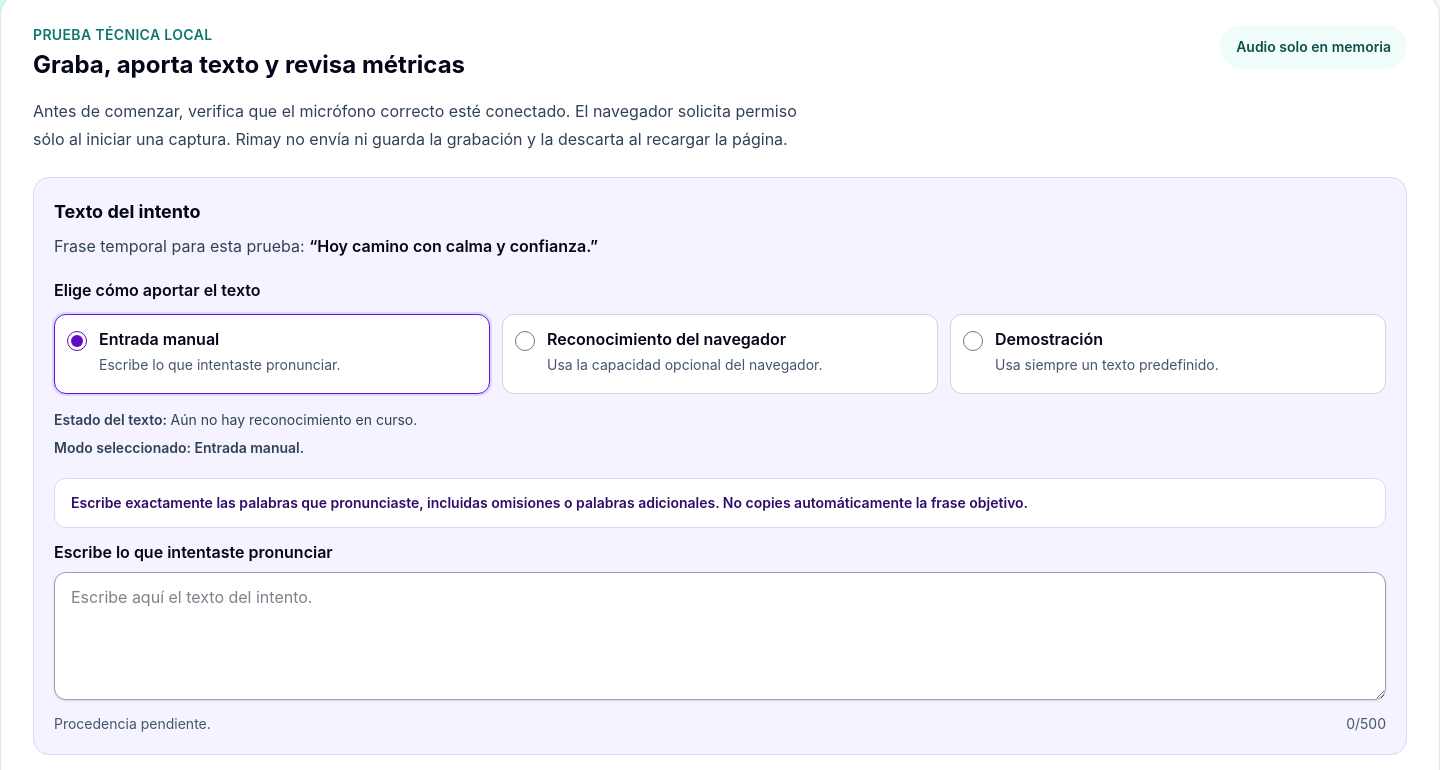
Scenario: AudioRecorderCard speech text flow › muestra WPM manual válido con el aviso de estimación declarada
Type "Hoy camino con calma y confianza." into the text box labelled "Escribe lo que intentaste pronunciar" at (720, 636), box [54,572,1386,700]
(page scrolled)
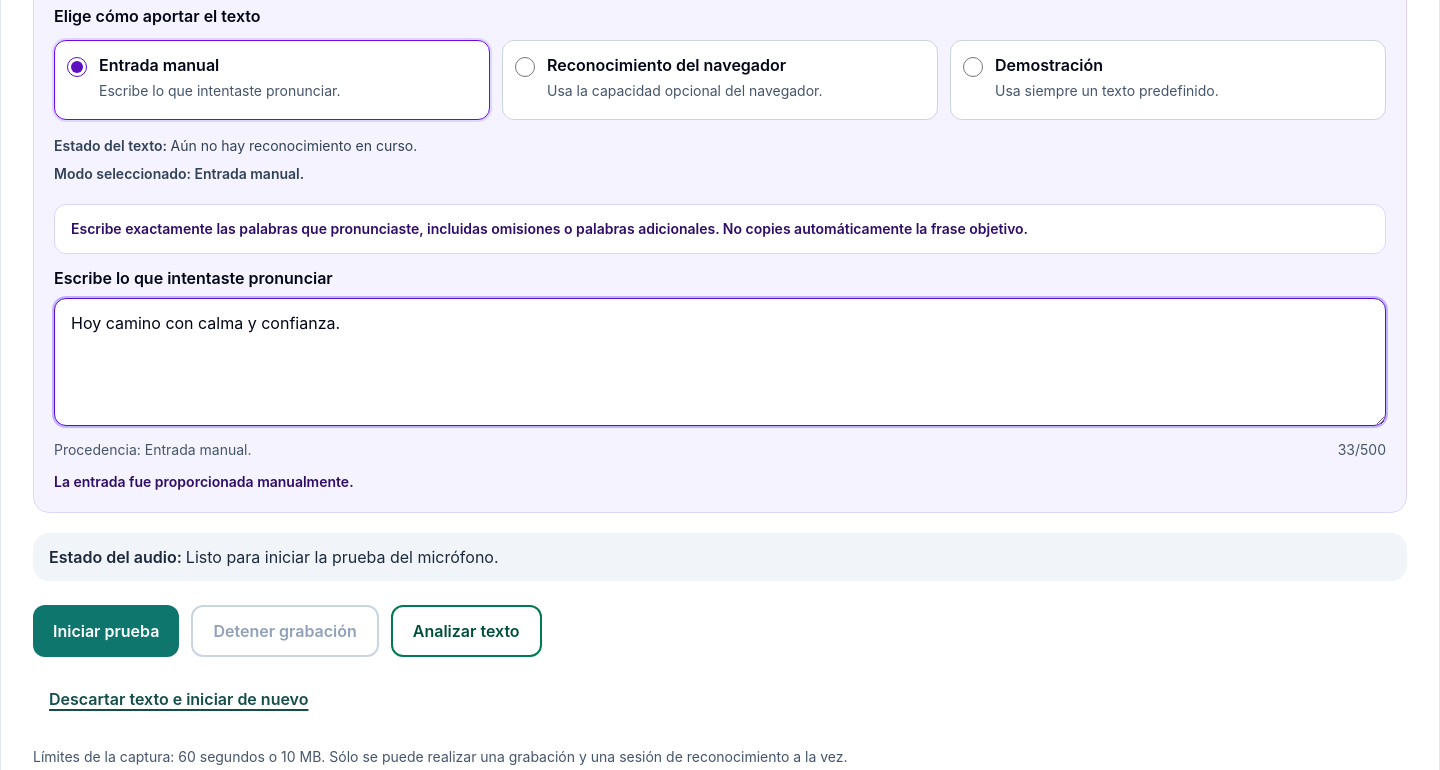
Click the button "Iniciar prueba" at (106, 631), box [33,605,179,657]
(page scrolled)
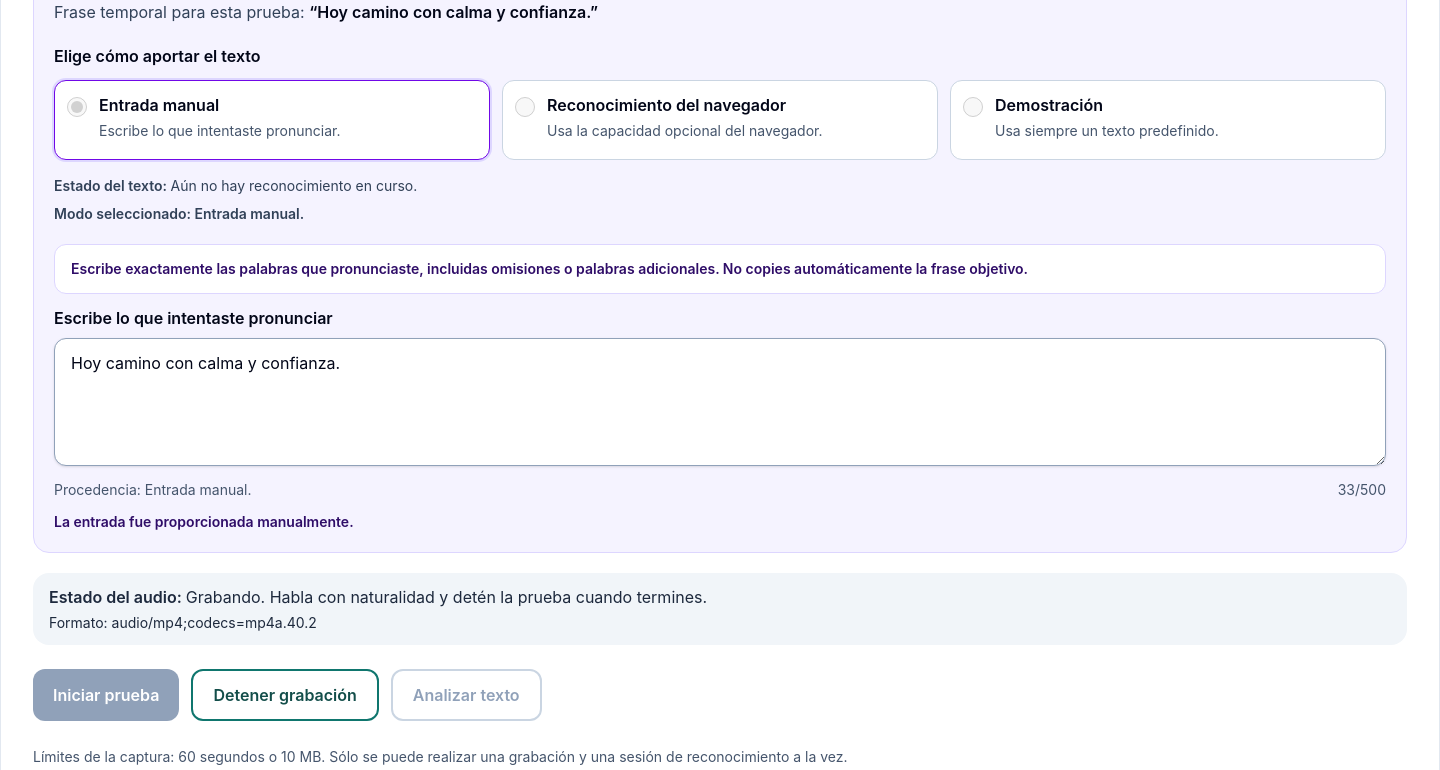
Click the button "Detener grabación" at (285, 695), box [191,669,379,721]
(page scrolled)
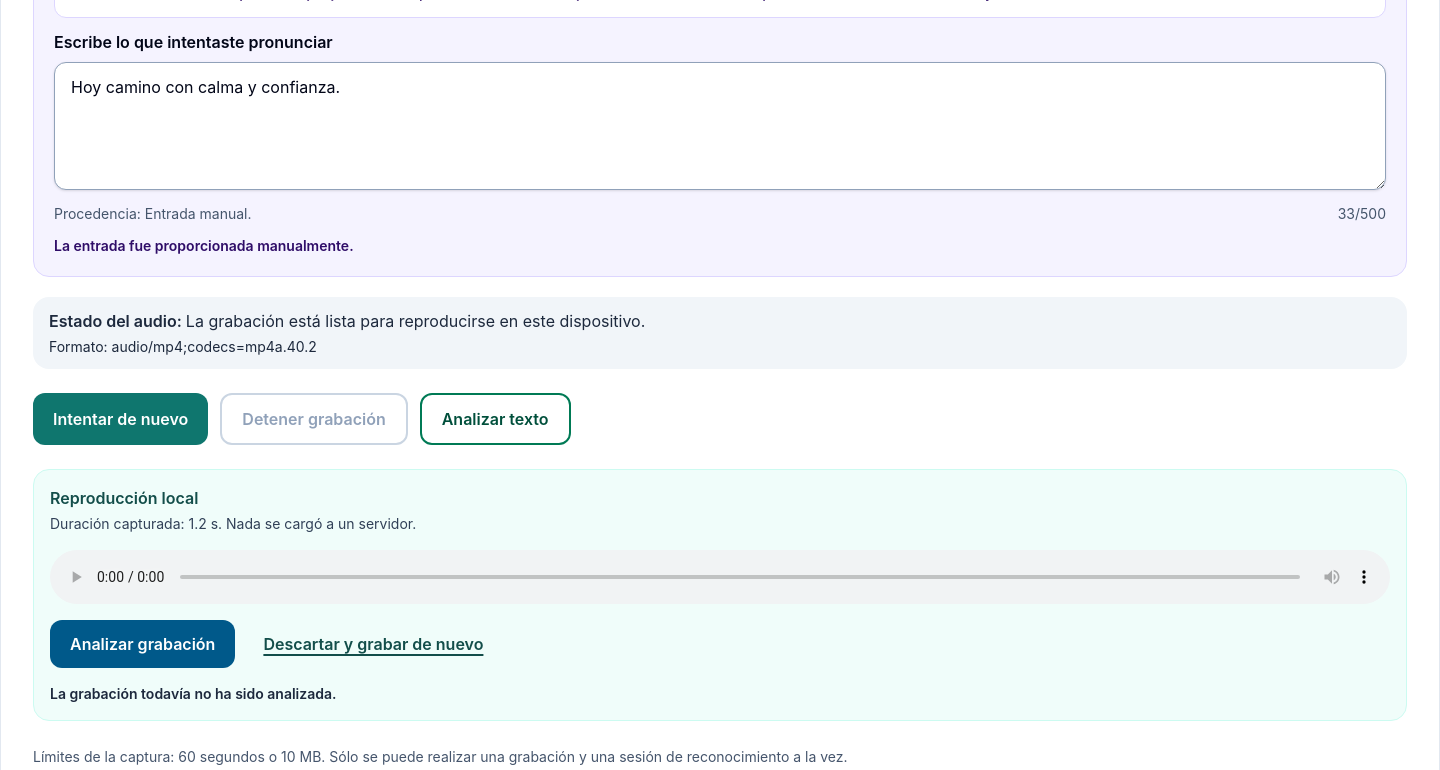
Click the button "Analizar grabación" at (143, 644), box [50,620,235,668]
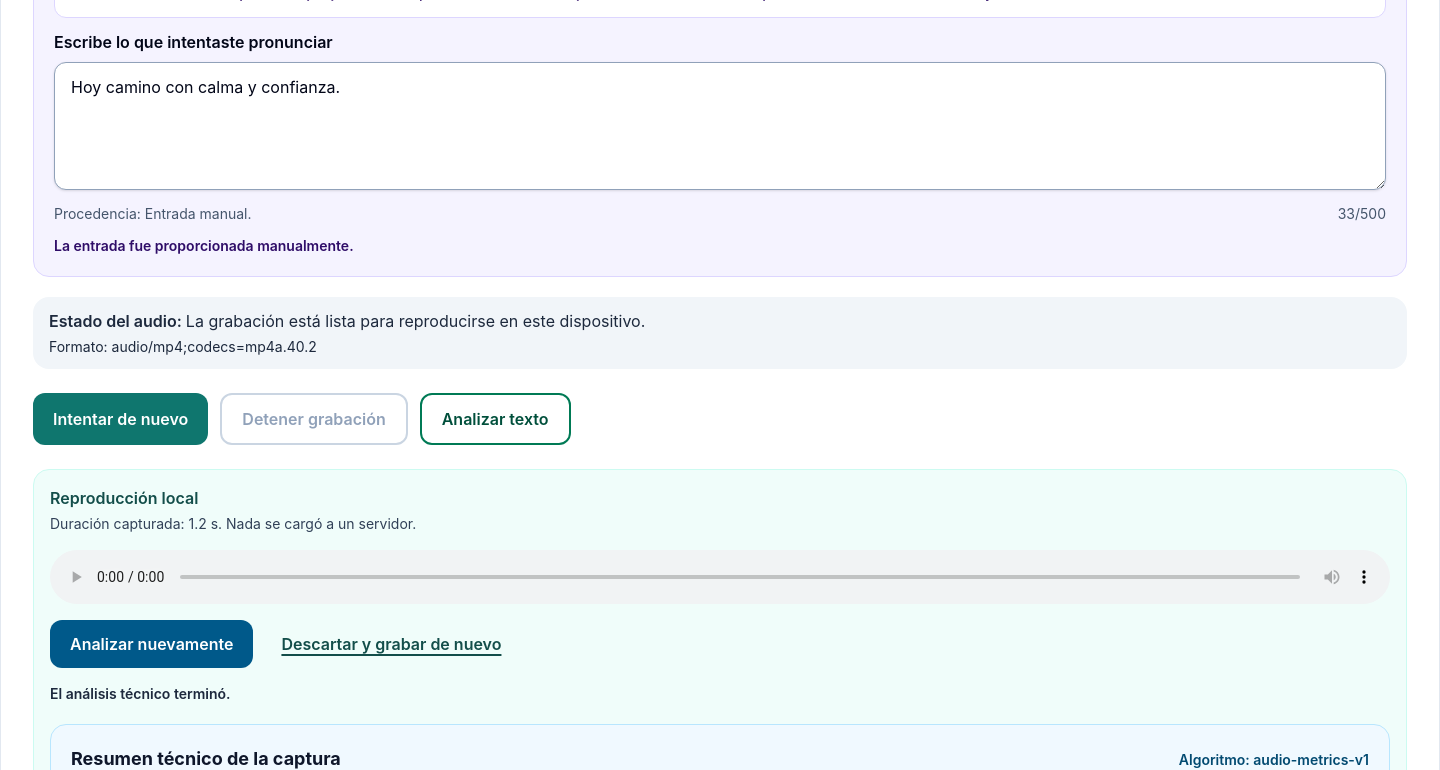
Click the button "Analizar texto" at (495, 419), box [420,393,570,445]
(page scrolled)
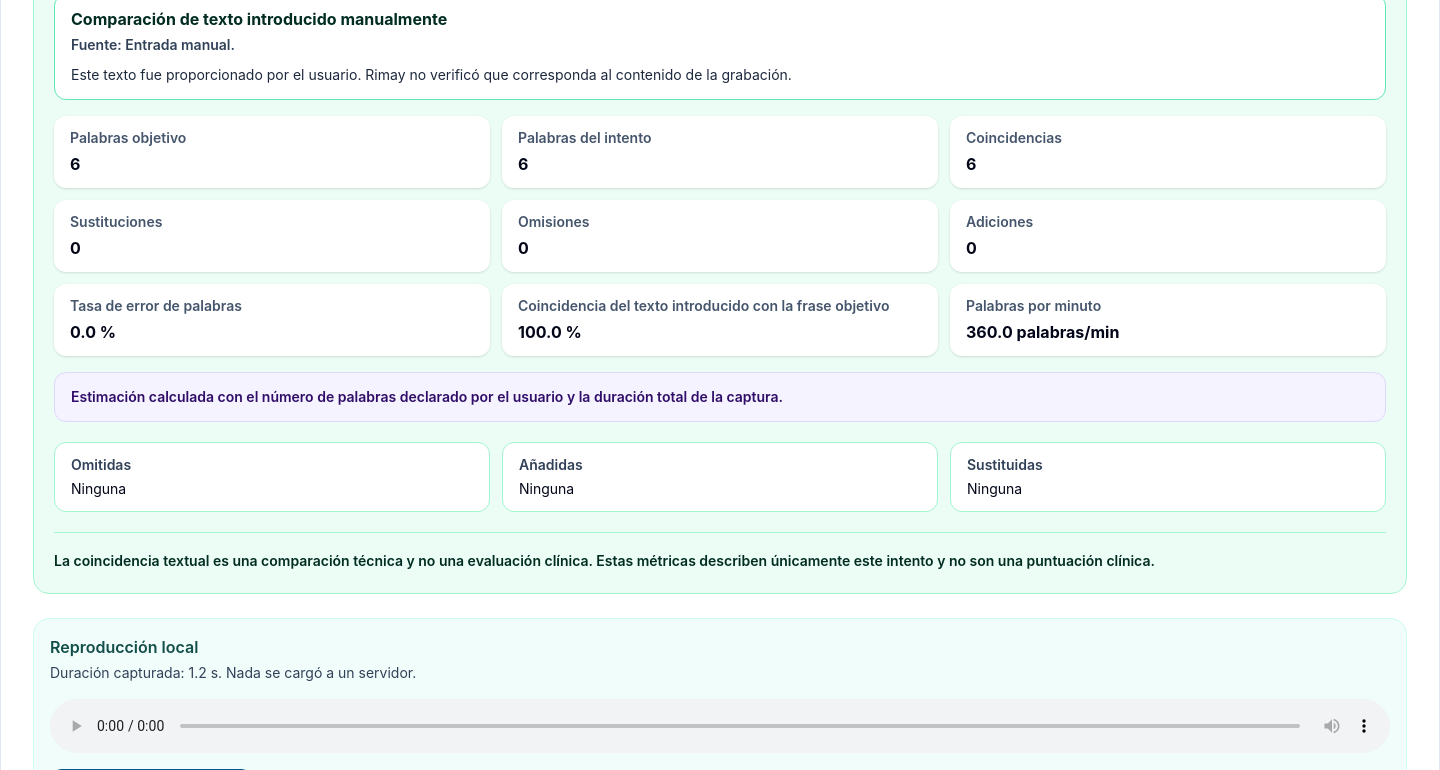
Expected: the text "360.0 palabras/min" is shown, [966,322,1119,342]
Expected: the text "Estimación calculada con el número de palabras declarado por el usuario y la duración total de la captura." is shown, [71,388,783,405]
